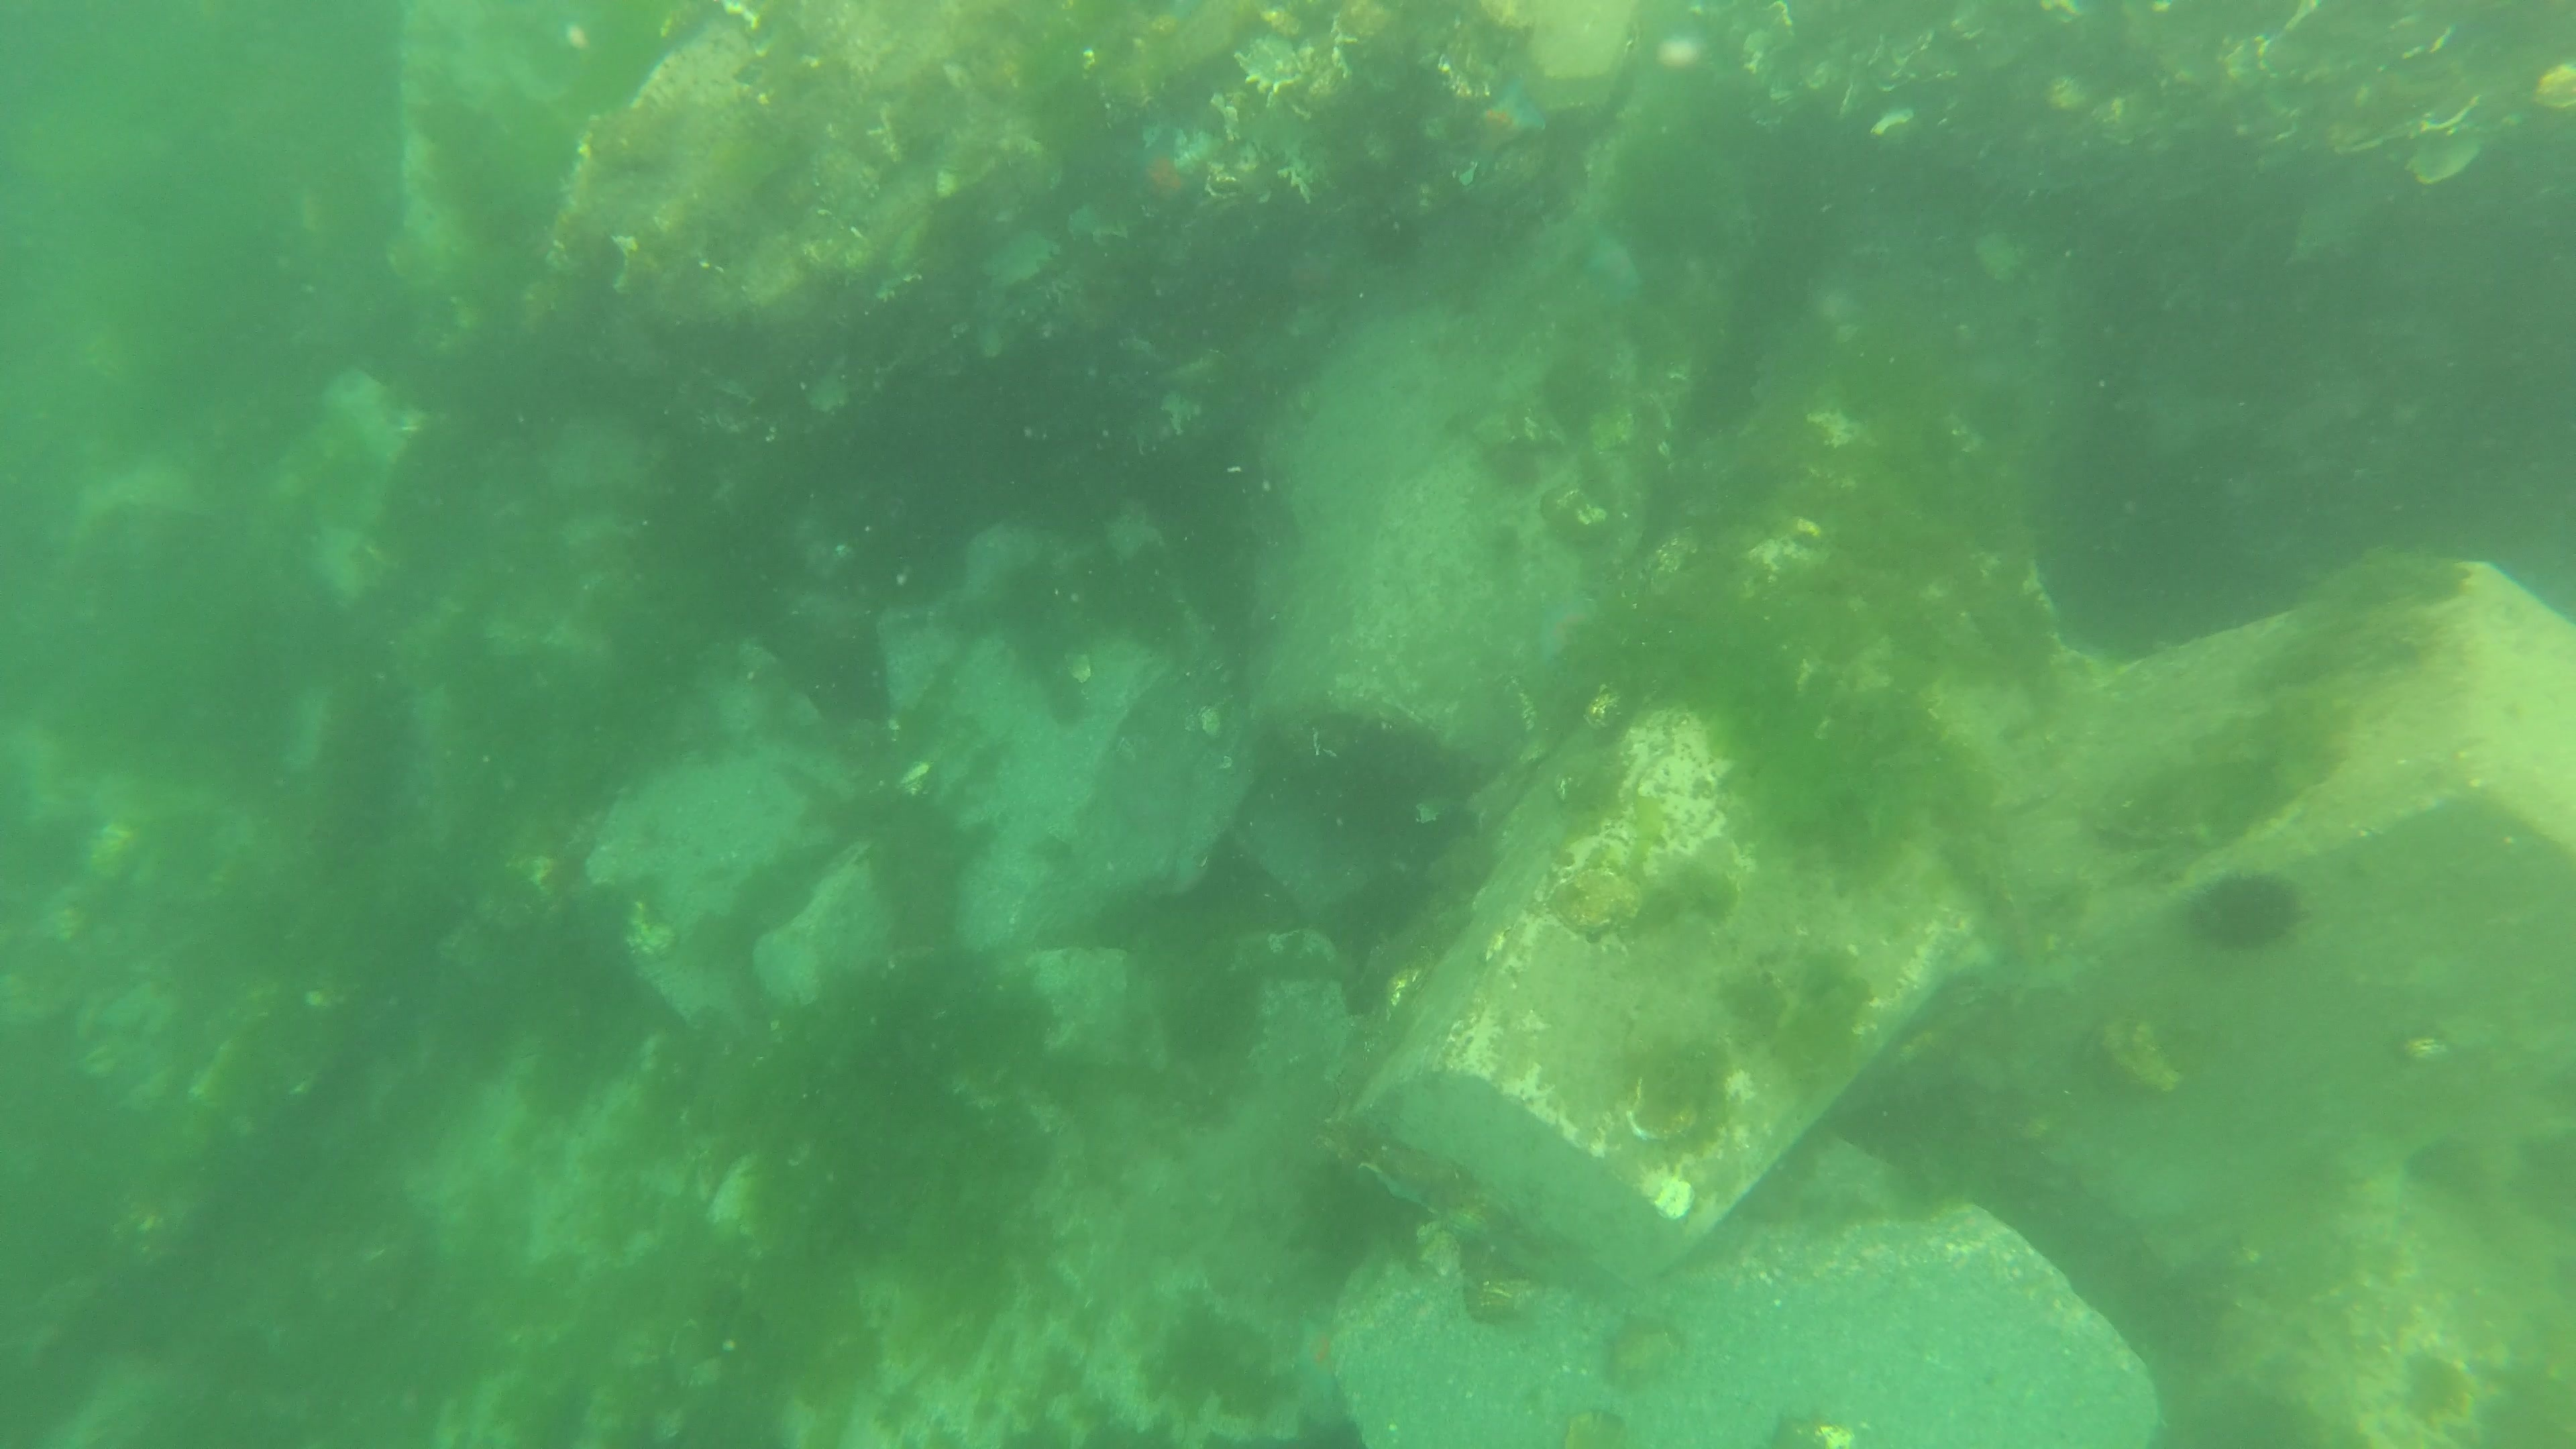echinus: (2171, 865, 2319, 961)
starfish: (1460, 76, 1553, 184), (1115, 126, 1210, 223), (1530, 589, 1608, 669), (1578, 221, 1652, 303)
